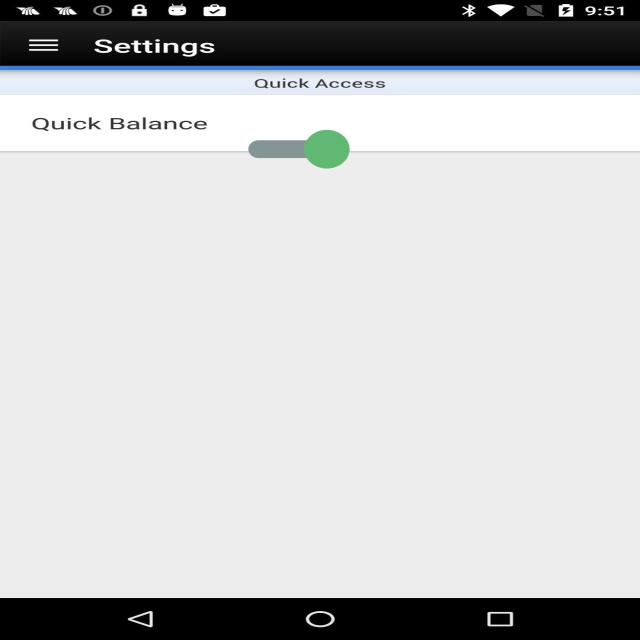social proof: (248, 106, 350, 192)
